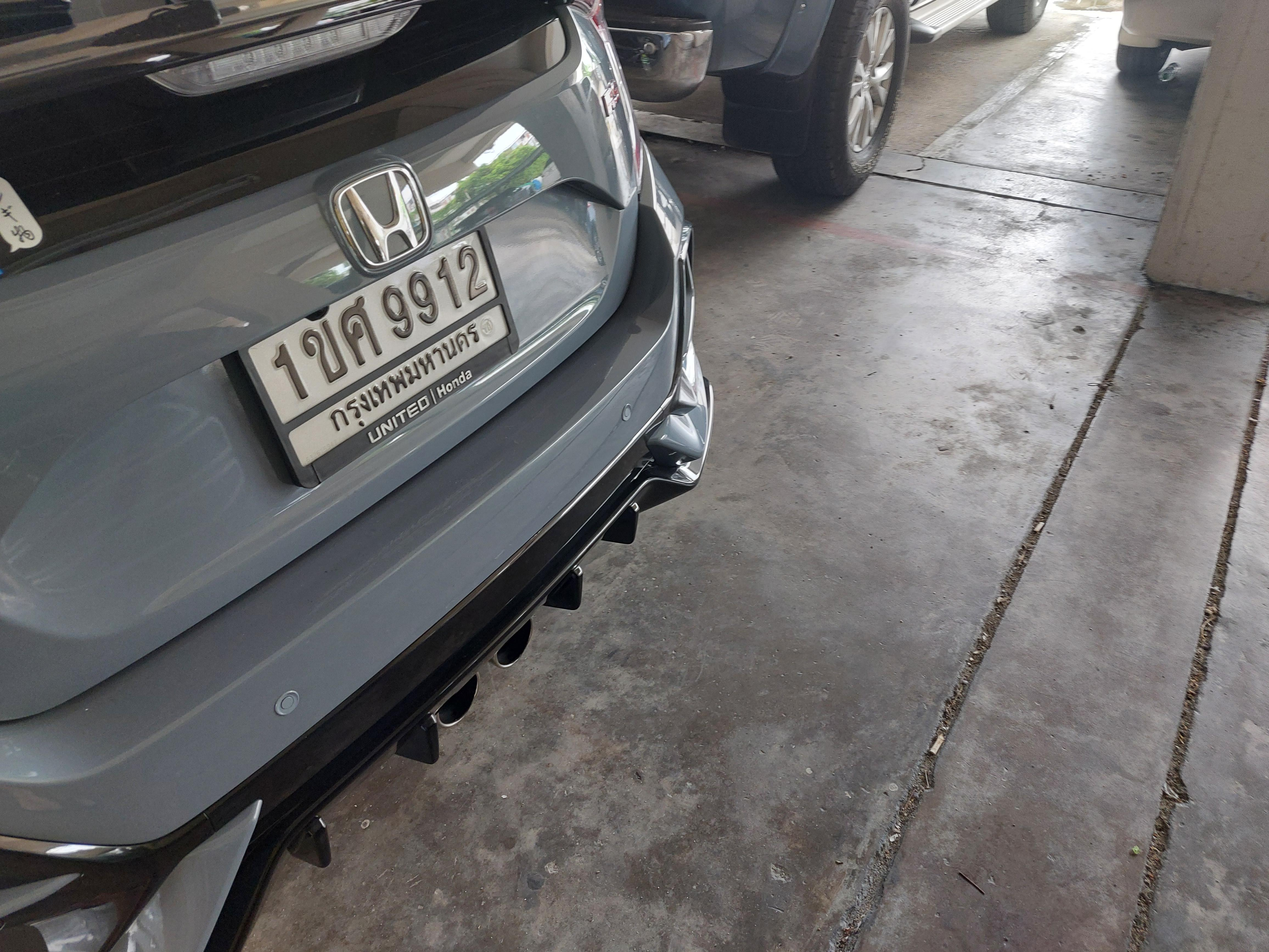license-plate: (211, 209, 522, 494)
